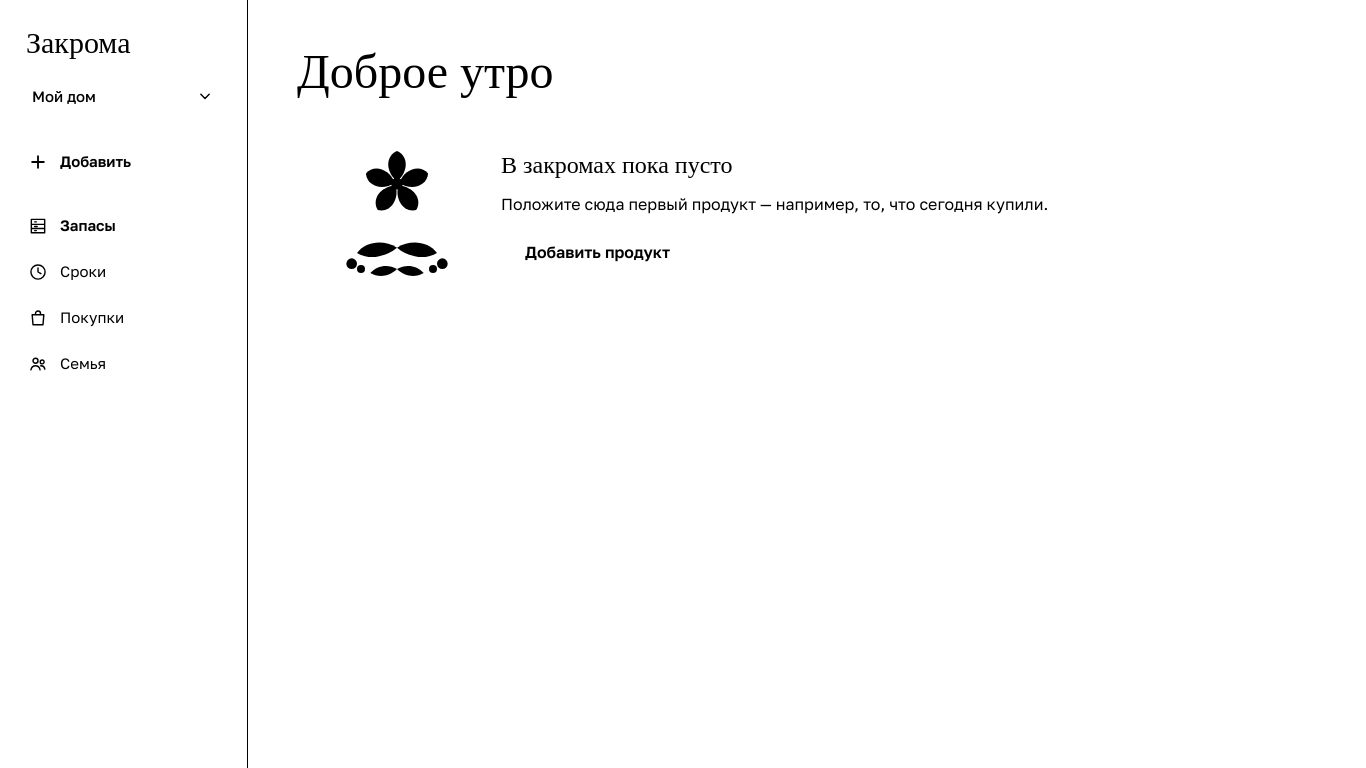
app shell (AC-3) › offers the first action right where the stock will appear
Click the link "Добавить продукт": (598, 252) [525,242,670,262]
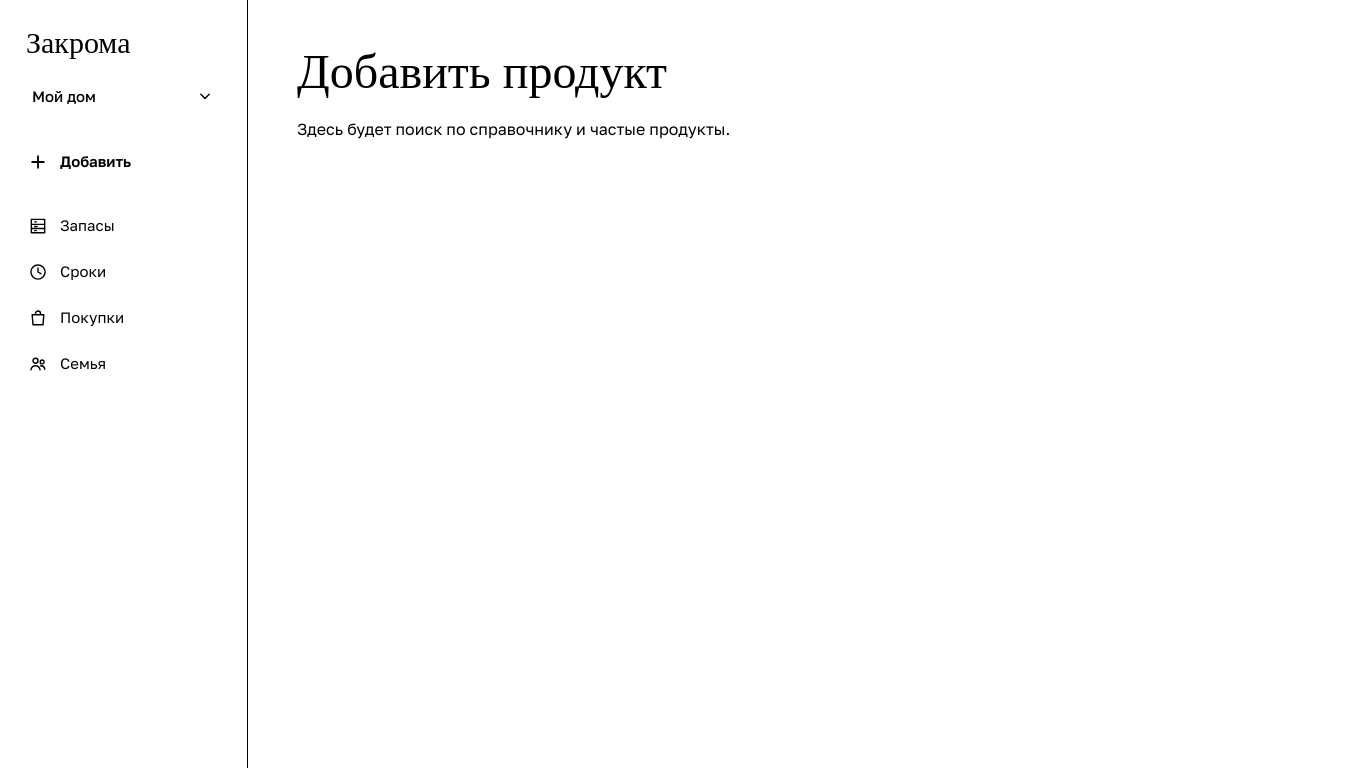
expect the heading "Добавить продукт" is shown: met, box [297,45,667,98]
